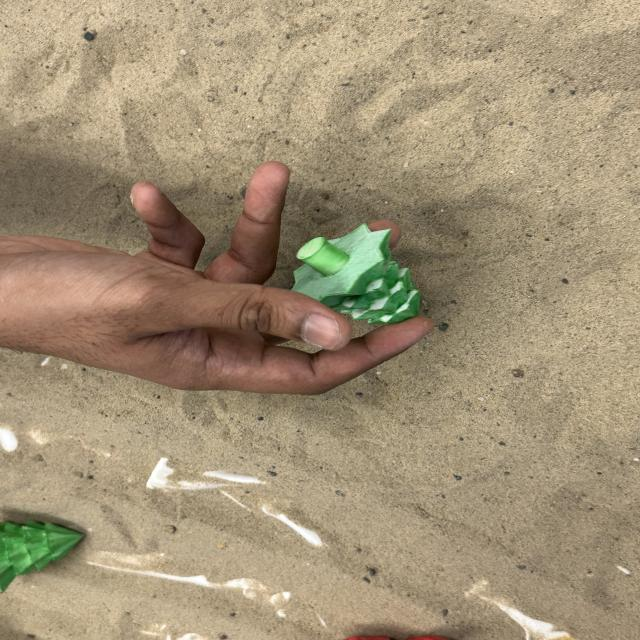tree: (288, 221, 422, 326), (0, 518, 85, 584)
